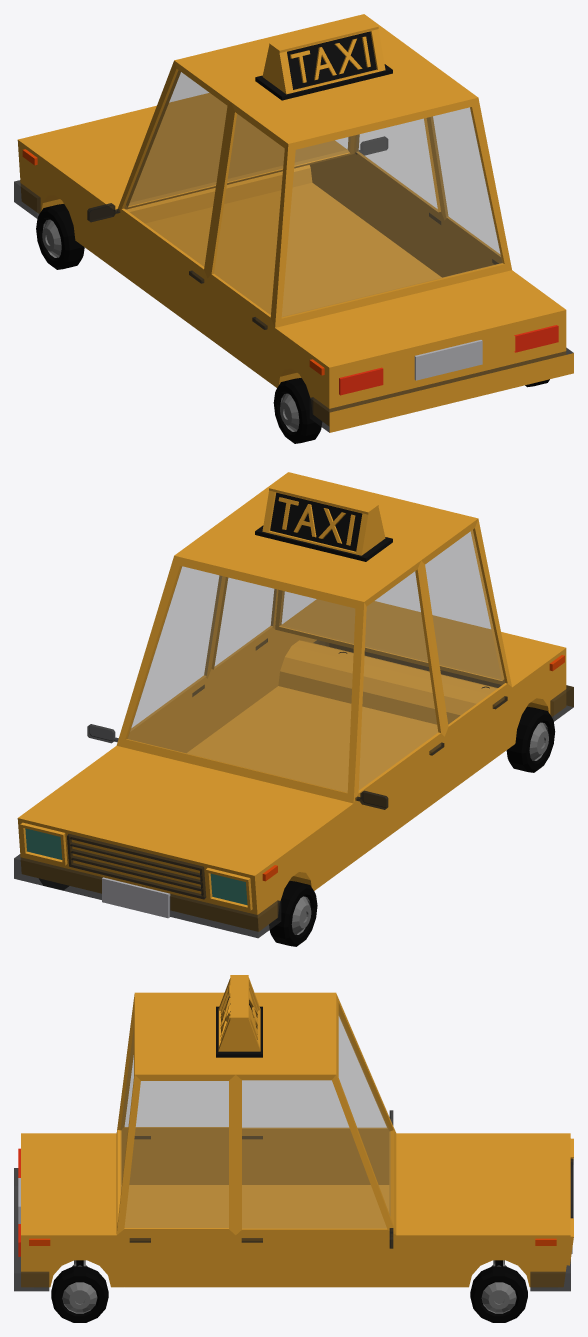
File: taxi.gltf
3 views of the same model, one above another, from view 1: azimuth 30°, elevation 25°; view 2: azimuth 150°, elevation 25°; view 3: azimuth 270°, elevation 25° (orthographic). The views are drawn at different scales.
Visible parts, largest first — view 1: Plane, Cube, Cylinder, Text; view 2: Plane, Cube, Cylinder, Text; view 3: Plane, Cylinder, Cube, Text.
Part boxes in pixels (box(x1,y1,x2,y2)): Plane: box(14, 14, 573, 432); Cube: box(255, 19, 392, 100); Cylinder: box(36, 204, 549, 443); Text: box(290, 36, 370, 82); Plane: box(14, 472, 573, 938); Cube: box(255, 480, 392, 561); Cylinder: box(40, 652, 555, 946); Text: box(278, 497, 355, 545); Plane: box(14, 992, 573, 1291); Cylinder: box(51, 1260, 527, 1322); Cube: box(216, 975, 262, 1057); Text: box(220, 985, 257, 1040).
Bounding box in the file's own units: 2.72 × 2.7 × 5.01.
